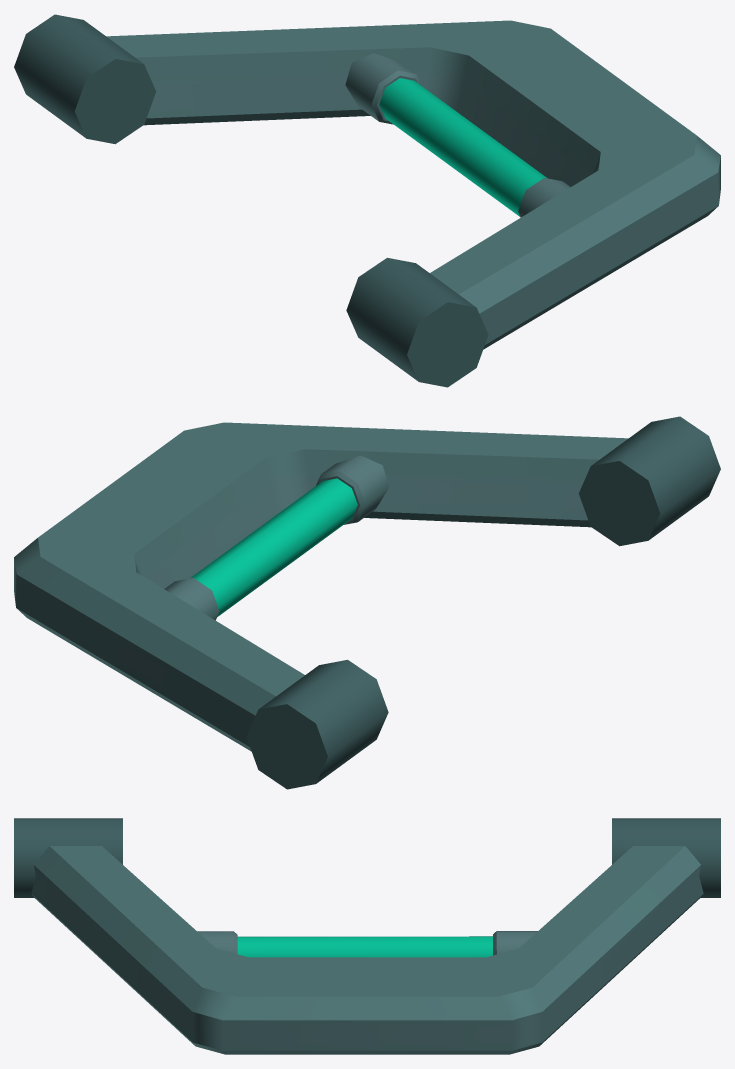
The model's file is Container_07_Cap_Handle_01.fbx.
3 renders of one model, top to bottom at view 1: azimuth 30°, elevation 25°; view 2: azimuth 150°, elevation 25°; view 3: azimuth 270°, elevation 25°, orthographic. The views are drawn at different scales.
Parts seen in each view (by area): view 1: Container_07_Cap_Handle_01; view 2: Container_07_Cap_Handle_01; view 3: Container_07_Cap_Handle_01.
Part boxes in pixels (<box>): Container_07_Cap_Handle_01: <box>14,14,720,387</box>; Container_07_Cap_Handle_01: <box>14,416,720,789</box>; Container_07_Cap_Handle_01: <box>14,818,720,1054</box>.
Size of the model in its own units: 17.91 by 3.4 by 28.34.
